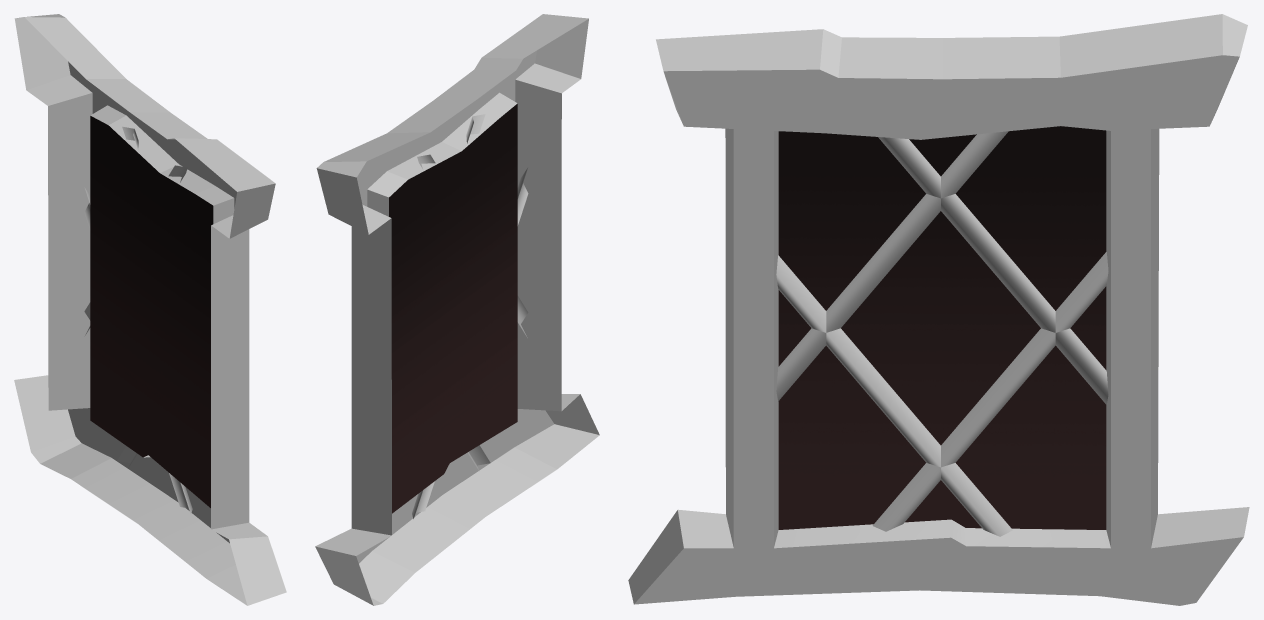
Rendered from lower_city_window_08_lattice.fbx.
3 views of the same model, side by side, from view 1: azimuth 30°, elevation 25°; view 2: azimuth 150°, elevation 25°; view 3: azimuth 270°, elevation 25° (orthographic). The views are drawn at different scales.
Visible parts, largest first — view 1: lower_city_window_08_lattice; view 2: lower_city_window_08_lattice; view 3: lower_city_window_08_lattice.
Boxes of the visible parts, x1=… form: lower_city_window_08_lattice: x1=14, y1=14, x2=286, y2=605; lower_city_window_08_lattice: x1=315, y1=14, x2=599, y2=605; lower_city_window_08_lattice: x1=628, y1=14, x2=1249, y2=605.
Size of the model in its own units: 0.1215 by 1.22 by 1.19.
